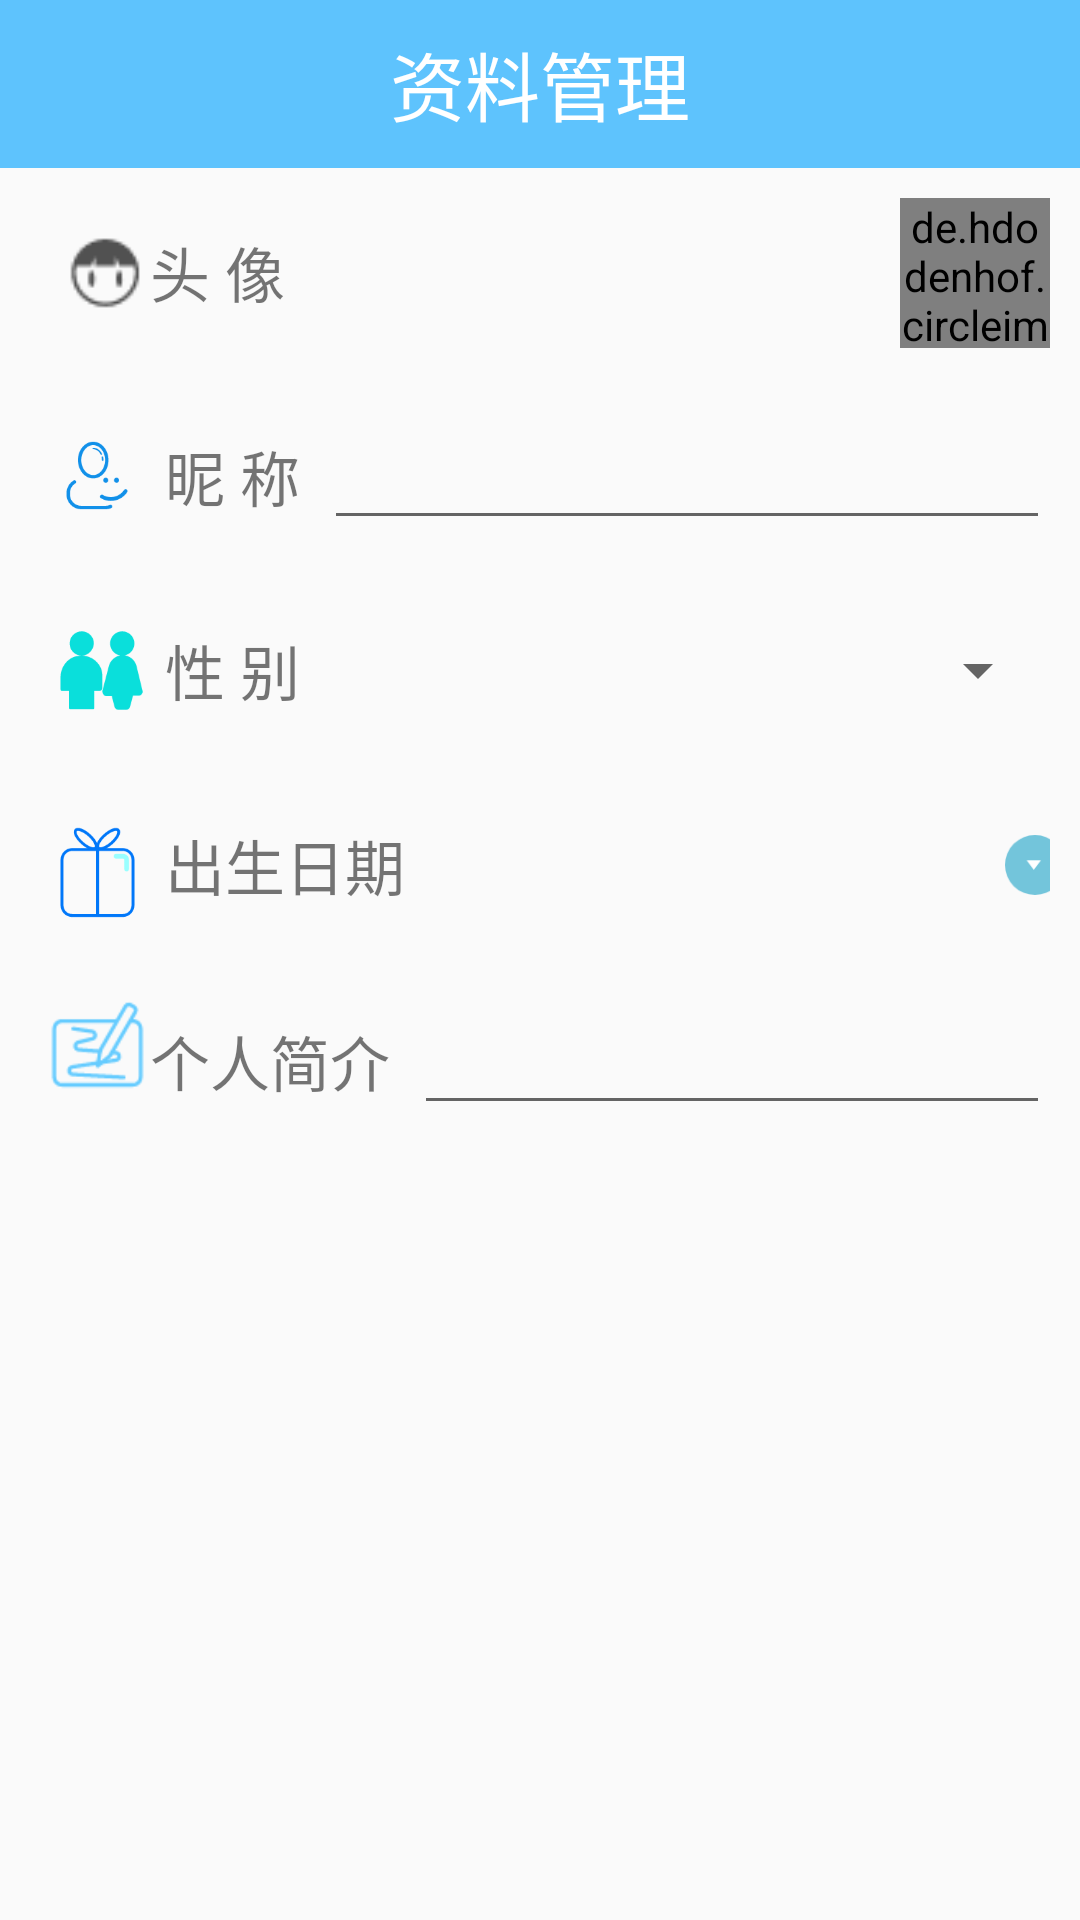

Where to tap for icons on this 1080w x 1920h app screen, as point (x, y):
gift: point (97, 872)
